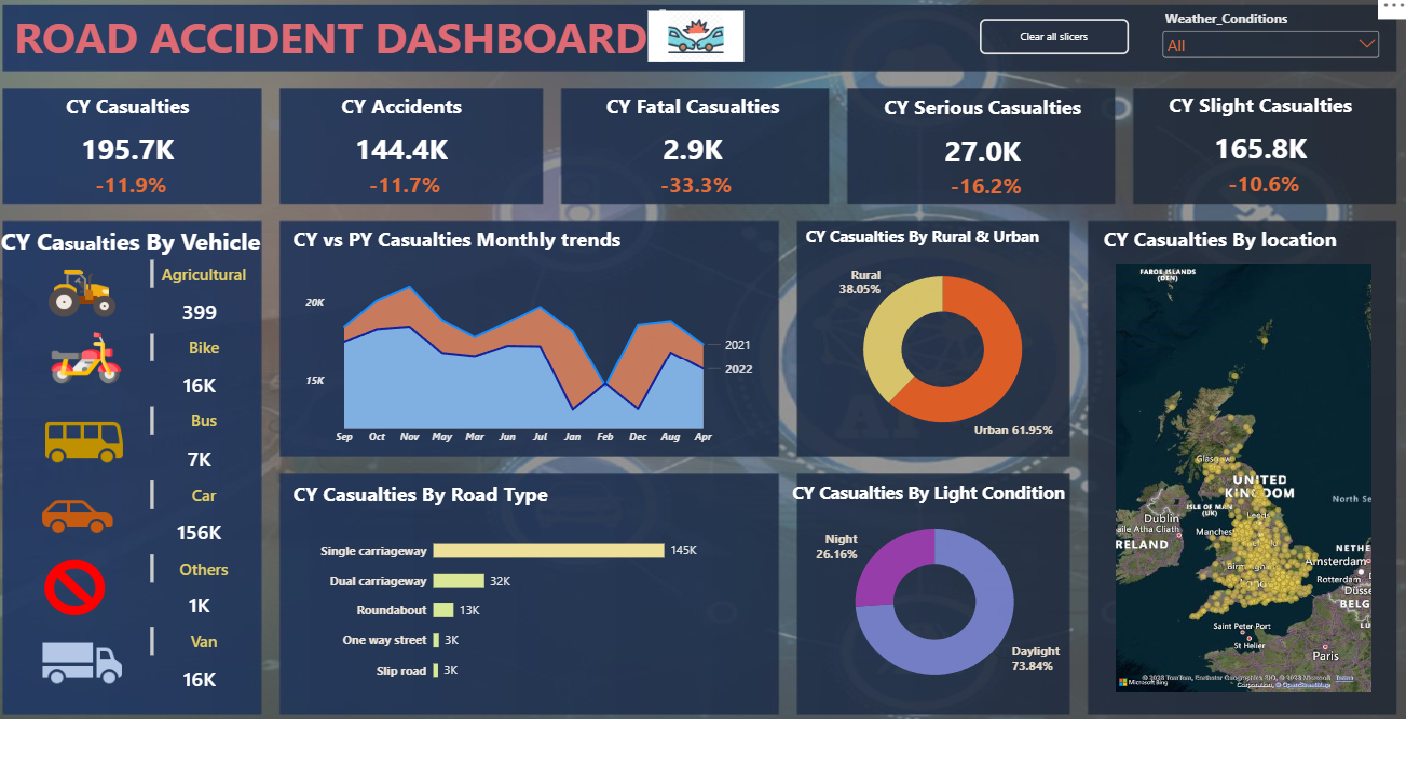

This screenshot's page, from the dashboard's own definition file:
{"tool":"powerbi","page":{"name":"Dashboard","canvas":[1920,1080],"ordinal":10},"visuals":[{"type":"image","box":[7.3,2.4,1911.6,1079.1],"z":0},{"type":"cardVisual","title":"CY Slight Casualties","fields":{"Data":["Data.CY_Slight_casulties"]},"box":[1552.7,150.2,326.8,112.2],"z":0,"group":"g3"},{"type":"cardVisual","title":"CY Casualties","fields":{"Data":["Data.CY_casualties"]},"box":[31.7,151.2,326.8,112.2],"z":0,"group":"g1"},{"type":"cardVisual","title":"CY Accidents","fields":{"Data":["Data.CY_accidents"]},"box":[399.9,152,326.8,112.2],"z":0,"group":"g2"},{"type":"cardVisual","title":"CY Fatal Casualties","fields":{"Data":["Data.CY_Fatal_casulties"]},"box":[790.8,152,326.8,112.2],"z":0,"group":"g5"},{"type":"cardVisual","title":"CY Serious Casualties","fields":{"Data":["Data.CY_Serious_casulties"]},"box":[1179.9,153,326.8,112.2],"z":0,"group":"g4"},{"type":"textbox","box":[44.2,30.2,874.4,76.7],"z":1000},{"type":"cardVisual","fields":{"Data":["Data.YOY_Slight_casualties"]},"box":[1630.7,262.4,180.5,41.5],"z":1000,"group":"g3"},{"type":"cardVisual","fields":{"Data":["Data.YOY_casualties"]},"box":[109.7,263.4,180.5,41.5],"z":1000,"group":"g1"},{"type":"cardVisual","fields":{"Data":["Data.YOY_accidents"]},"box":[477.9,264.2,180.5,41.5],"z":1000,"group":"g2"},{"type":"cardVisual","fields":{"Data":["Data.YOY_Fatal_casualties"]},"box":[868.8,264.2,180.5,41.5],"z":1000,"group":"g5"},{"type":"cardVisual","fields":{"Data":["Data.YOY_Serious_casualties"]},"box":[1257.9,265.2,180.5,41.5],"z":1000,"group":"g4"},{"type":"image","box":[894,32.6,128.5,74.2],"z":2000},{"type":"textbox","box":[0,345.7,400,48.6],"z":3000},{"type":"textbox","box":[418,345.6,450.6,48.9],"z":4000},{"type":"textbox","box":[1086.8,716.3,442.5,51.5],"z":5000},{"type":"textbox","box":[418,716.6,372.8,61.5],"z":6000},{"type":"textbox","box":[1105,345,345,50],"z":7000},{"type":"textbox","box":[1505.6,345.6,374.6,41.6],"z":8000},{"type":"image","box":[43.4,394.5,182.8,95.9],"z":9000},{"type":"group","id":"g1","title":"Group 1","box":[31.7,151.2,326.8,153.7],"z":10000},{"type":"group","id":"g2","title":"Group 1","box":[399.9,152,327.5,153.8],"z":11000},{"type":"group","id":"g3","title":"Group 1","box":[1552.7,150.2,327.5,153.8],"z":12000},{"type":"group","id":"g4","title":"Group 1","box":[1179.9,153,326.2,153],"z":13000},{"type":"group","id":"g5","title":"Group 1","box":[790.8,152,327.5,153.8],"z":14000},{"type":"cardVisual","fields":{"Data":["Data.CY_casualties"],"Rows":["Data.Vehicle_Type (groups)"]},"box":[226.2,394.5,132.1,644.2],"z":15000},{"type":"image","box":[67,490.4,146.6,94.1],"z":16000},{"type":"image","box":[67,602.6,141.2,114],"z":17000},{"type":"image","box":[43.4,716.6,170.1,103.2],"z":18000},{"type":"image","box":[48.9,819.8,152,103.2],"z":19000},{"type":"image","box":[56.1,922.9,157.4,115.8],"z":20000},{"type":"map","fields":{"Category":["Data.Local_Authority_(District)"],"X":["Avg(Data.Longitude)"],"Y":["Avg(Data.Latitude)"]},"box":[1505,387.5,375,652.5],"z":21000},{"type":"slicer","fields":{"Values":["Data.Weather_Conditions (groups)"]},"box":[1579.8,32.6,300.4,76],"z":22000},{"type":"areaChart","fields":{"Category":["calendar.month_name"],"Series":["calendar.year"],"Y":["Data.total_casualities"]},"box":[417.5,387.5,632.5,295],"z":23000},{"type":"barChart","fields":{"Category":["Data.Road_Type"],"Y":["Data.CY_casualties"]},"box":[437.5,767.5,612.5,270],"z":24000},{"type":"donutChart","fields":{"Category":["Data.Urban_or_Rural_Area"],"Y":["Data.CY_casualties"]},"box":[1105,345,367.5,360],"z":25000},{"type":"donutChart","fields":{"Category":["Data.Light_Conditions (groups)"],"Y":["Data.CY_casualties"]},"box":[1095,712.5,367.5,360],"z":26000},{"type":"actionButton","box":[1339.1,45.2,200,50],"z":26001}]}

Visuals, with their boxes on the page's 1920x1080 design canvas (x1, y1, x2, y2). These are canvas units, not pixel positions in the 1423x759 screenshot, which may show the page scaled, cropped or inside an application window:
image: l=7, t=2, r=1919, b=1082
"CY Slight Casualties" cardVisual: l=1553, t=150, r=1880, b=262
"CY Casualties" cardVisual: l=32, t=151, r=358, b=263
"CY Accidents" cardVisual: l=400, t=152, r=727, b=264
"CY Fatal Casualties" cardVisual: l=791, t=152, r=1118, b=264
"CY Serious Casualties" cardVisual: l=1180, t=153, r=1507, b=265
textbox: l=44, t=30, r=919, b=107
cardVisual - Data.YOY_Slight_casualties: l=1631, t=262, r=1811, b=304
cardVisual - Data.YOY_casualties: l=110, t=263, r=290, b=305
cardVisual - Data.YOY_accidents: l=478, t=264, r=658, b=306
cardVisual - Data.YOY_Fatal_casualties: l=869, t=264, r=1049, b=306
cardVisual - Data.YOY_Serious_casualties: l=1258, t=265, r=1438, b=307
image: l=894, t=33, r=1022, b=107
textbox: l=0, t=346, r=400, b=394
textbox: l=418, t=346, r=869, b=394
textbox: l=1087, t=716, r=1529, b=768
textbox: l=418, t=717, r=791, b=778
textbox: l=1105, t=345, r=1450, b=395
textbox: l=1506, t=346, r=1880, b=387
image: l=43, t=394, r=226, b=490
"Group 1" group: l=32, t=151, r=358, b=305
"Group 1" group: l=400, t=152, r=727, b=306
"Group 1" group: l=1553, t=150, r=1880, b=304
"Group 1" group: l=1180, t=153, r=1506, b=306
"Group 1" group: l=791, t=152, r=1118, b=306
cardVisual - Data.CY_casualties x Data.Vehicle_Type (groups): l=226, t=394, r=358, b=1039
image: l=67, t=490, r=214, b=584
image: l=67, t=603, r=208, b=717
image: l=43, t=717, r=214, b=820
image: l=49, t=820, r=201, b=923
image: l=56, t=923, r=214, b=1039
map - Data.Local_Authority_(District) x Avg(Data.Longitude): l=1505, t=388, r=1880, b=1040
slicer - Data.Weather_Conditions (groups): l=1580, t=33, r=1880, b=109
areaChart - calendar.month_name x calendar.year: l=418, t=388, r=1050, b=682
barChart - Data.Road_Type x Data.CY_casualties: l=438, t=768, r=1050, b=1038
donutChart - Data.Urban_or_Rural_Area x Data.CY_casualties: l=1105, t=345, r=1472, b=705
donutChart - Data.Light_Conditions (groups) x Data.CY_casualties: l=1095, t=712, r=1462, b=1072
actionButton: l=1339, t=45, r=1539, b=95
